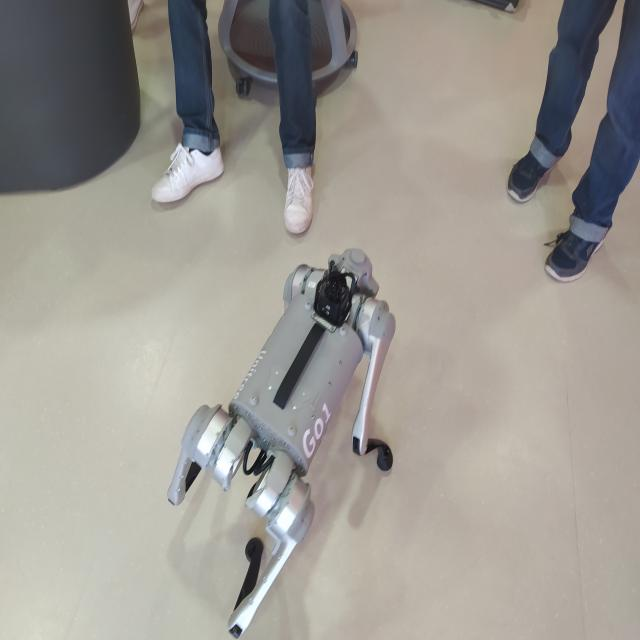unitree-go1-robot: (161, 238, 413, 640)
